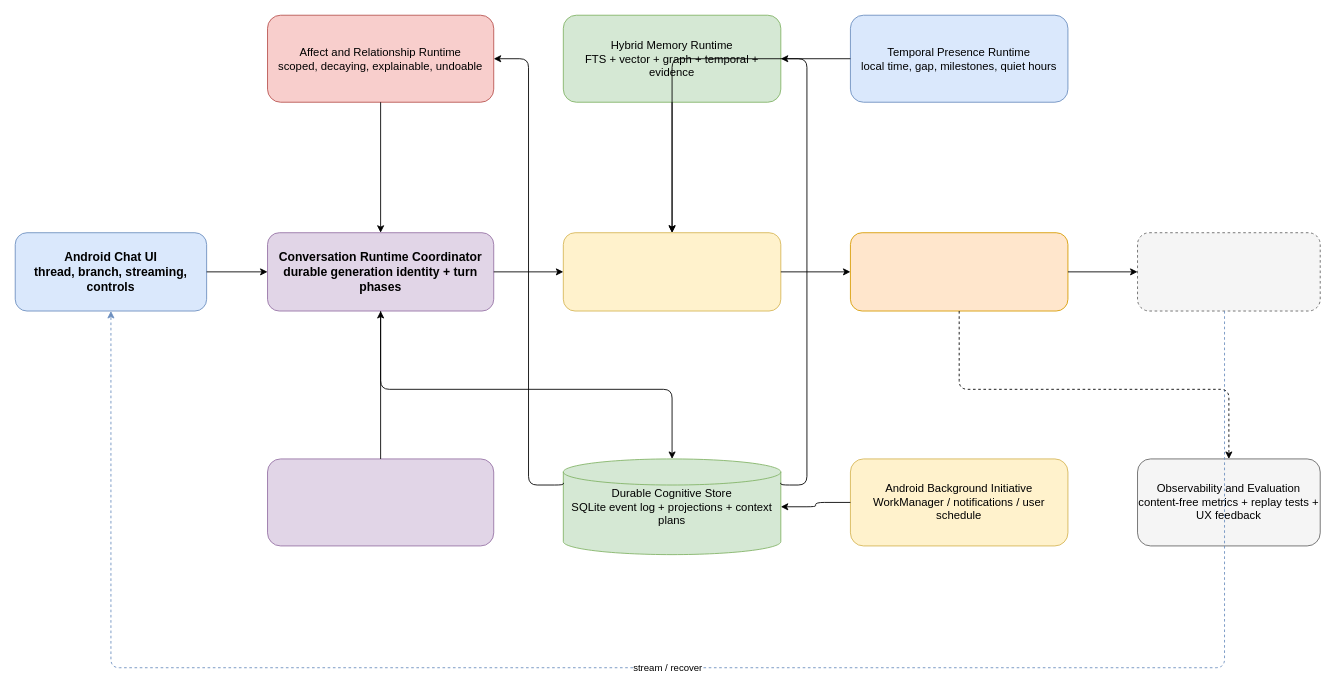
Image size: 1335x690. Some labels were removed from this diagram. Here are the shapes that lost their labels. From the top down, the centre of each, then its label:
the point at 671,271: Context Planner stable policy, role, memory, retrieval, history, request
the point at 959,271: Provider Adapter / Optional Gateway stream, retry, cache, resume token
the point at 1228,271: LLM Providers
the point at 380,502: Consent and Safety Policy scope isolation, disclosure, proactive budget
